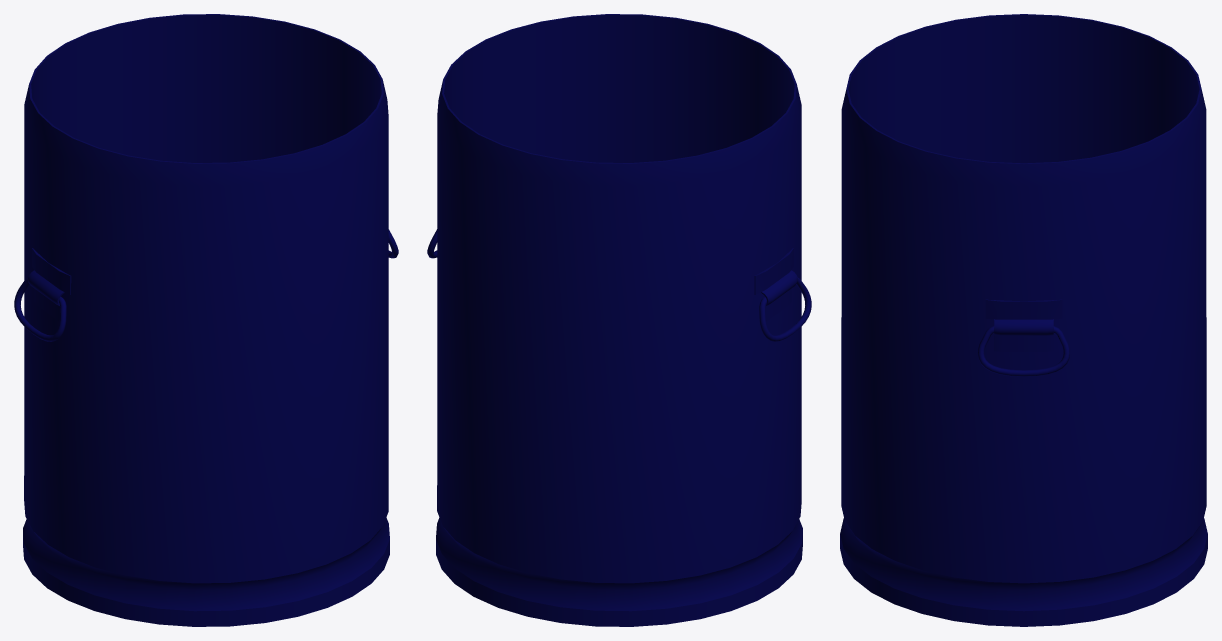
The model's file is SM_TrashBinBase.fbx.
The picture shows the model from 3 angles, left to right: view 1: azimuth 30°, elevation 25°; view 2: azimuth 150°, elevation 25°; view 3: azimuth 270°, elevation 25°; orthographic projection.
Parts seen in each view (by area): view 1: TrashBinBase; view 2: TrashBinBase; view 3: TrashBinBase.
Part boxes in pixels (box(x1,y1,x2,y2)): TrashBinBase: box(14, 14, 398, 626); TrashBinBase: box(427, 14, 811, 626); TrashBinBase: box(840, 14, 1207, 626).
Bounding box in the file's own units: 52.17 × 65.64 × 47.54.
